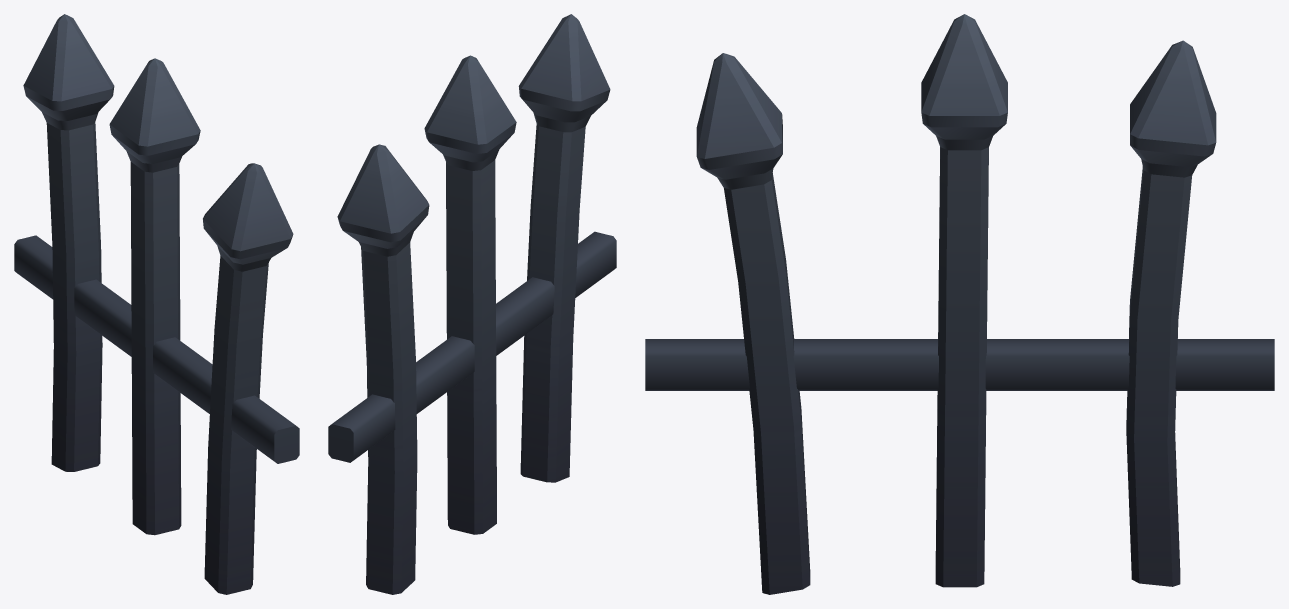
File: Fence_2_2.obj
3 renders of one model, left to right at view 1: azimuth 30°, elevation 25°; view 2: azimuth 150°, elevation 25°; view 3: azimuth 270°, elevation 25°, orthographic. The views are drawn at different scales.
Parts seen in each view (by area): view 1: Fence_2_2; view 2: Fence_2_2; view 3: Fence_2_2.
Part boxes in pixels (x1=…): Fence_2_2: x1=14, y1=14, x2=299, y2=594; Fence_2_2: x1=328, y1=14, x2=616, y2=594; Fence_2_2: x1=645, y1=14, x2=1274, y2=594.
Size of the model in its own units: 0.1342 by 0.9768 by 0.9745.
